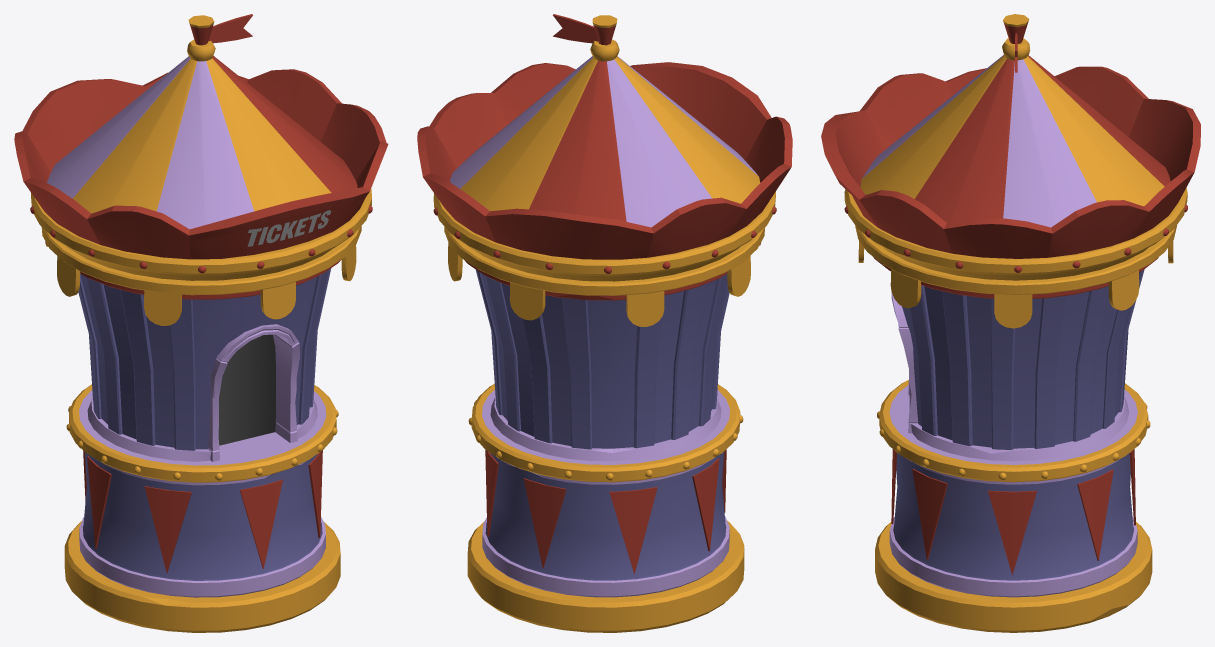
File: SM_Props_Park_01.fbx
3 renders of one model, left to right at view 1: azimuth 30°, elevation 25°; view 2: azimuth 150°, elevation 25°; view 3: azimuth 270°, elevation 25°, orthographic.
Parts seen in each view (by area): view 1: SM_Props_Park_01; view 2: SM_Props_Park_01; view 3: SM_Props_Park_01.
Boxes of the visible parts, bbox=[...] form: SM_Props_Park_01: bbox=[14, 14, 388, 632]; SM_Props_Park_01: bbox=[417, 14, 792, 632]; SM_Props_Park_01: bbox=[821, 14, 1200, 632].
Size of the model in its own units: 2.46 by 4.02 by 2.49.
